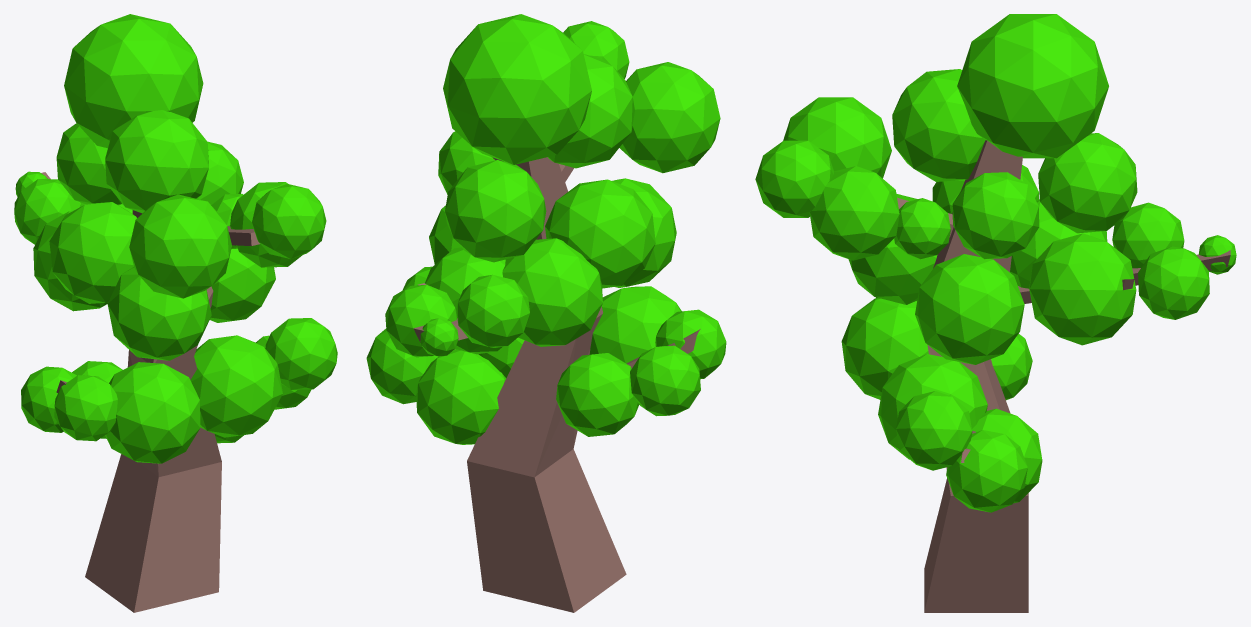
File: tree_1.glb
3 views of the same model, side by side, from view 1: azimuth 30°, elevation 25°; view 2: azimuth 150°, elevation 25°; view 3: azimuth 270°, elevation 25° (orthographic). The views are drawn at different scales.
Visible parts, largest first — view 1: Icosphere.023; view 2: Icosphere.023; view 3: Icosphere.023.
Boxes of the visible parts, <box> form: Icosphere.023: <box>14,14,337,612</box>; Icosphere.023: <box>366,14,726,612</box>; Icosphere.023: <box>755,14,1236,612</box>.
Bounding box in the file's own units: 1.74 × 3.05 × 2.3.
